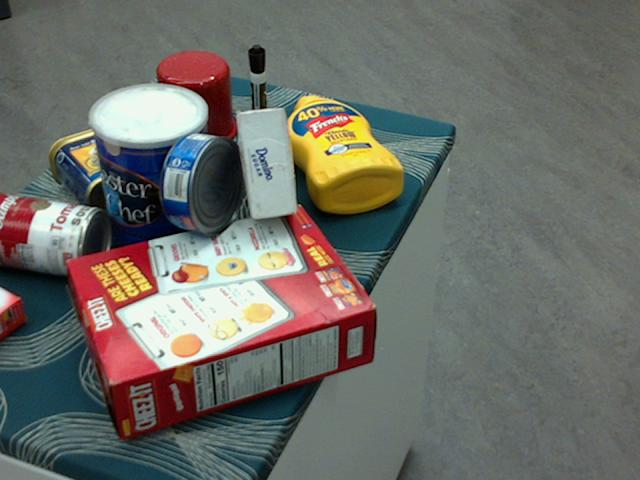cracker_box: (68, 204, 375, 438)
gelatin_box: (0, 285, 28, 340)
large_marker: (248, 44, 267, 148)
master_chef_can: (89, 85, 212, 270)
mug: (155, 51, 237, 151)
mustard_bottle: (282, 94, 403, 213)
potted_meat_can: (48, 119, 175, 218)
sugar_box: (235, 108, 296, 219)
tomato_soup_can: (0, 189, 110, 279)
tuna_fish_can: (159, 131, 245, 234)
